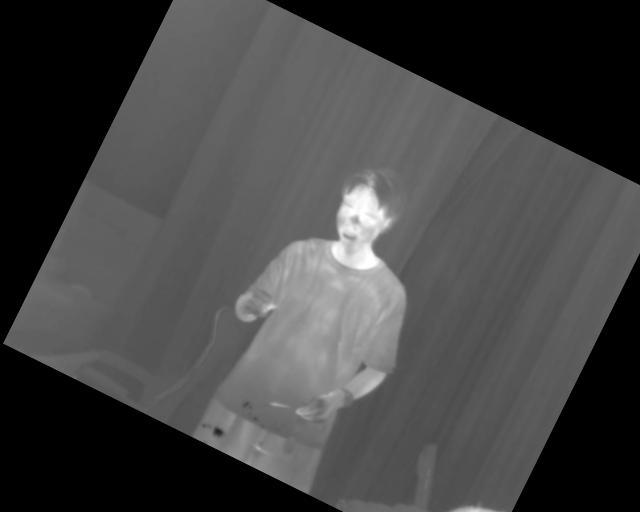face: (317, 155, 414, 265)
